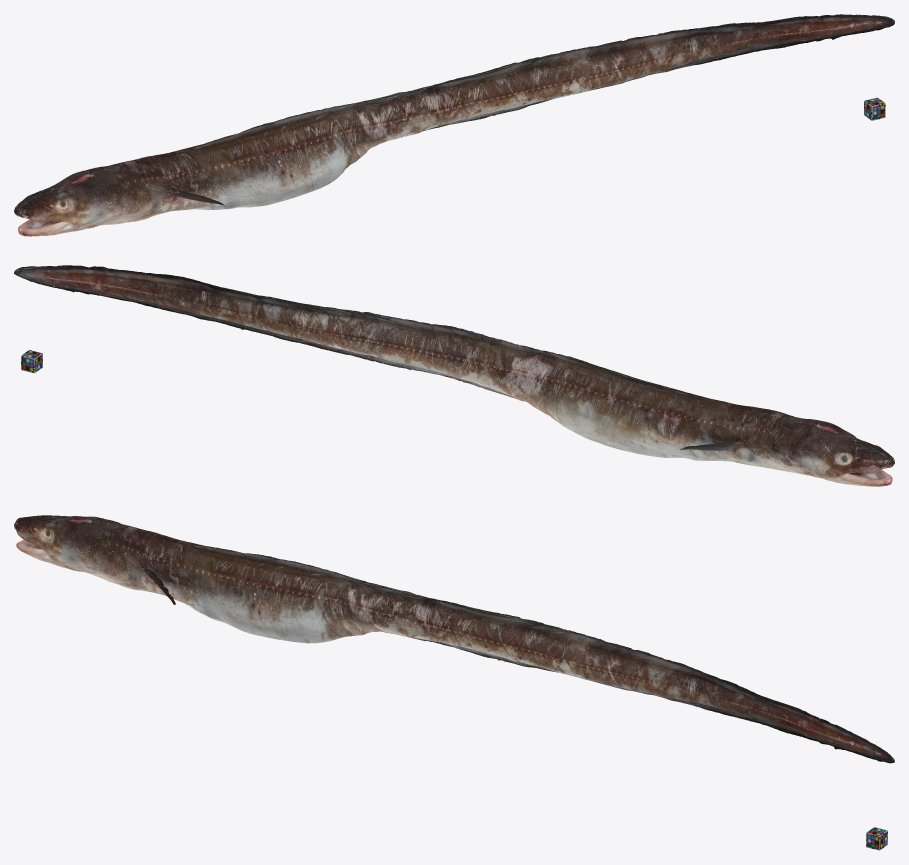
File: scan_conger_daian.glb
3 views of the same model, one above another, from view 1: azimuth 30°, elevation 25°; view 2: azimuth 150°, elevation 25°; view 3: azimuth 330°, elevation 25° (orthographic).
Parts seen in each view (by area): view 1: Object_6, Object_12; view 2: Object_12, Object_6; view 3: Object_6, Object_12.
Boxes of the visible parts, x1,y1,x2,y2 form: Object_6: (14, 14, 894, 236); Object_12: (14, 14, 894, 233); Object_12: (14, 266, 894, 486); Object_6: (14, 265, 894, 485); Object_6: (14, 515, 894, 763); Object_12: (14, 515, 893, 761).
Bounding box in the file's own units: 23.5 × 3.64 × 2.38.
Materials: 3 (3 with a texture image).
